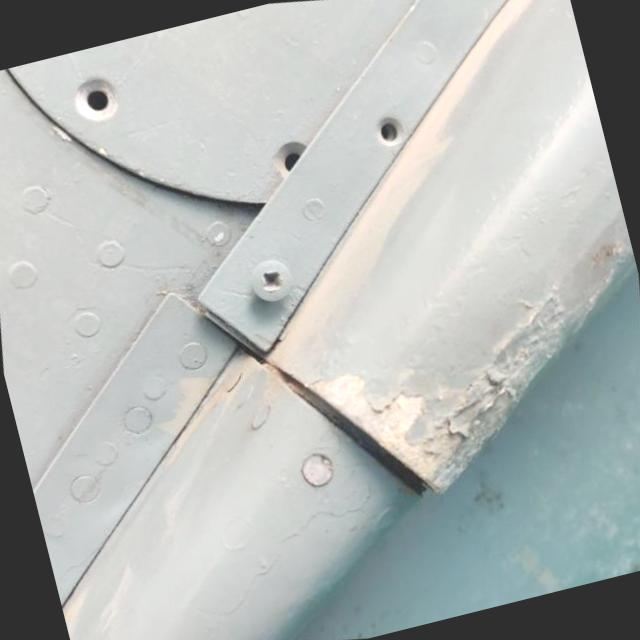Missing Fastener: (68, 74, 117, 123), (268, 137, 310, 177), (371, 111, 405, 147)
